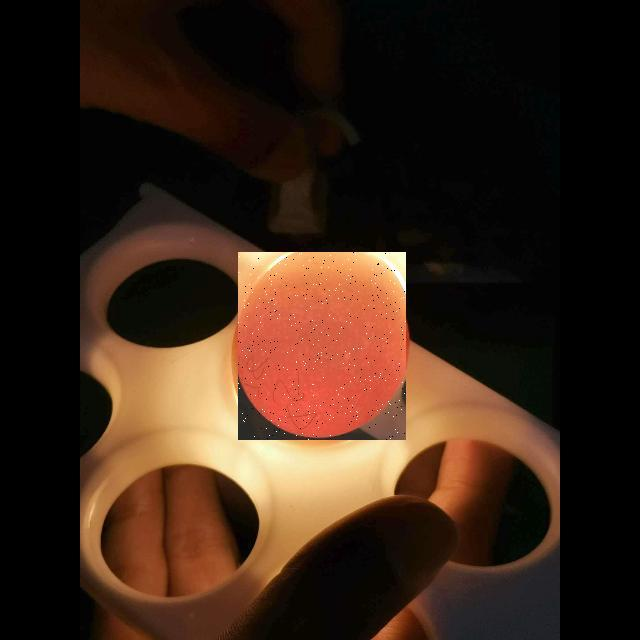Infertile: (238, 252, 406, 440)
